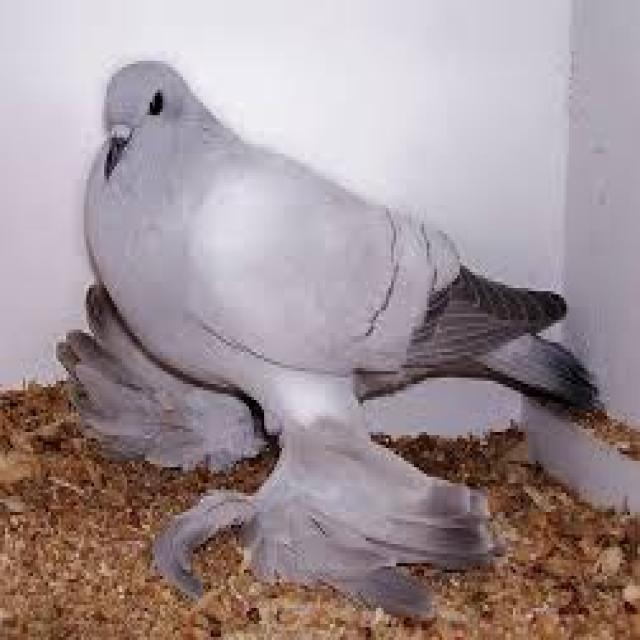pigeon: (74, 21, 606, 499)
